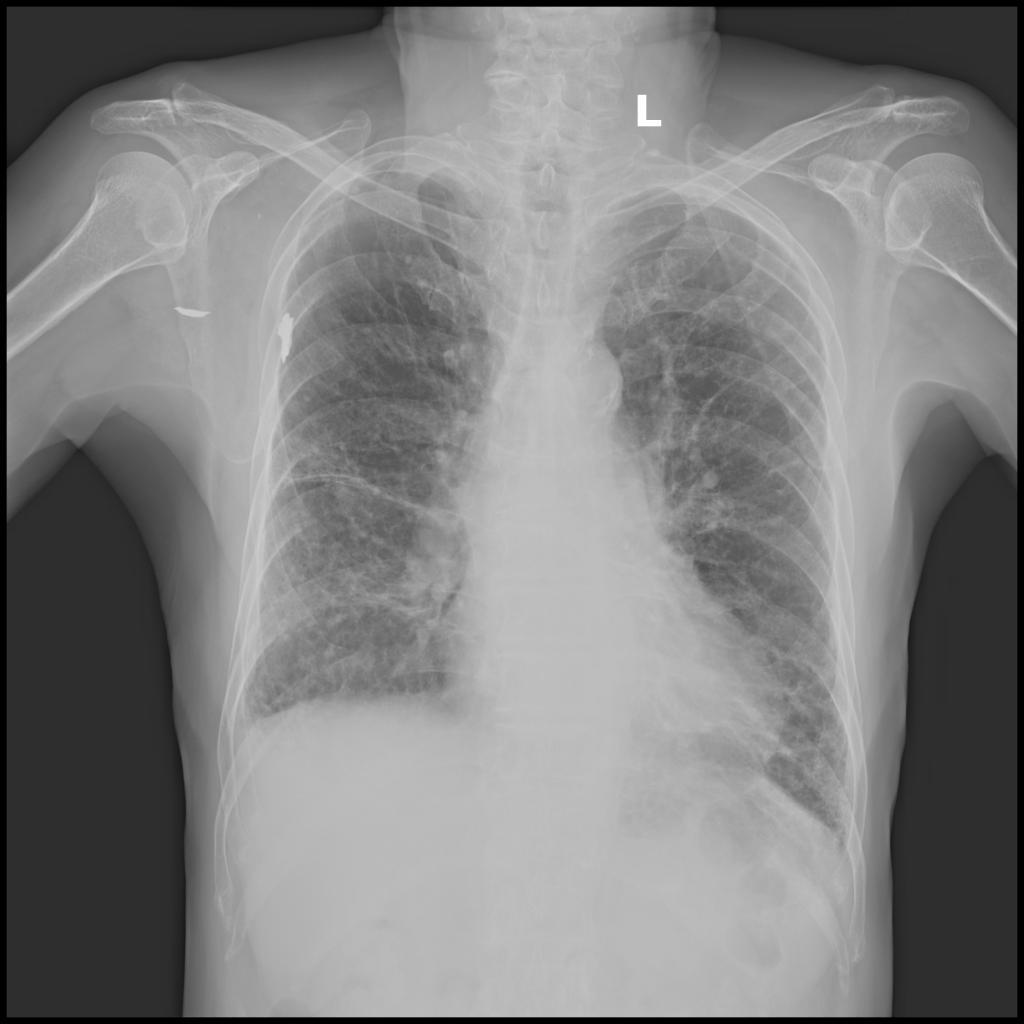Nodule: (765, 309, 802, 346)
